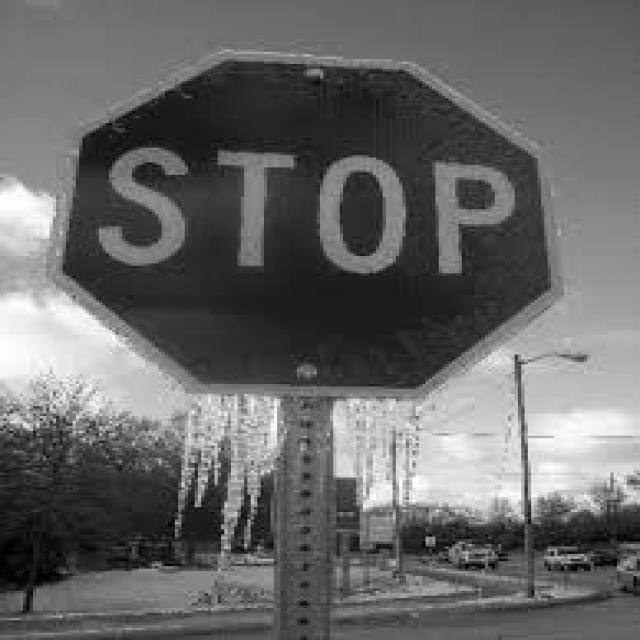stop sign: (63, 46, 553, 401)
